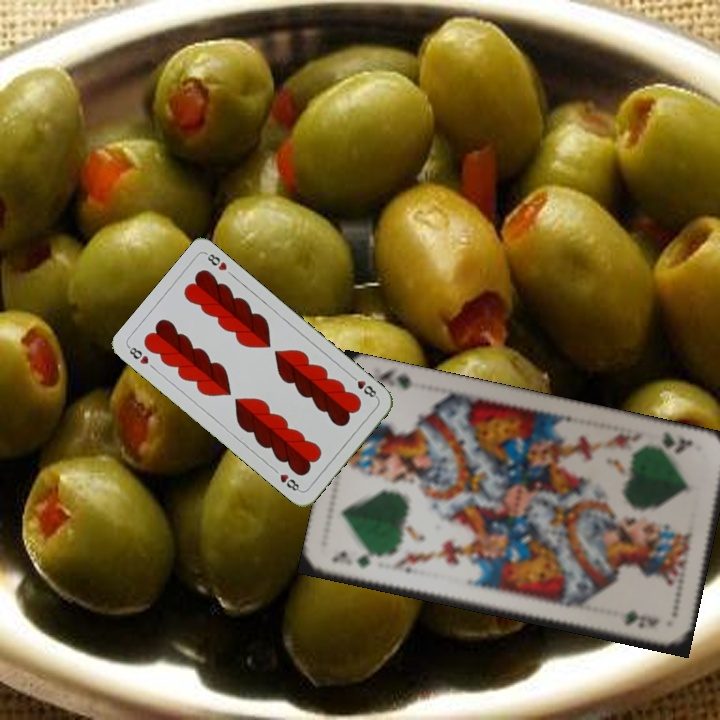GK: (328, 547, 373, 571), (658, 427, 695, 456)
H8: (346, 371, 380, 401), (124, 342, 151, 367)
